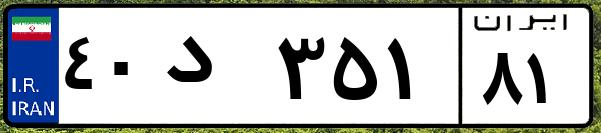0: (110, 28, 158, 98)
1: (385, 28, 445, 110), (525, 38, 570, 115)
3: (270, 28, 330, 110)
4: (57, 26, 110, 100)
5: (330, 28, 385, 110)
8: (475, 38, 525, 113)
د: (158, 20, 270, 120)
